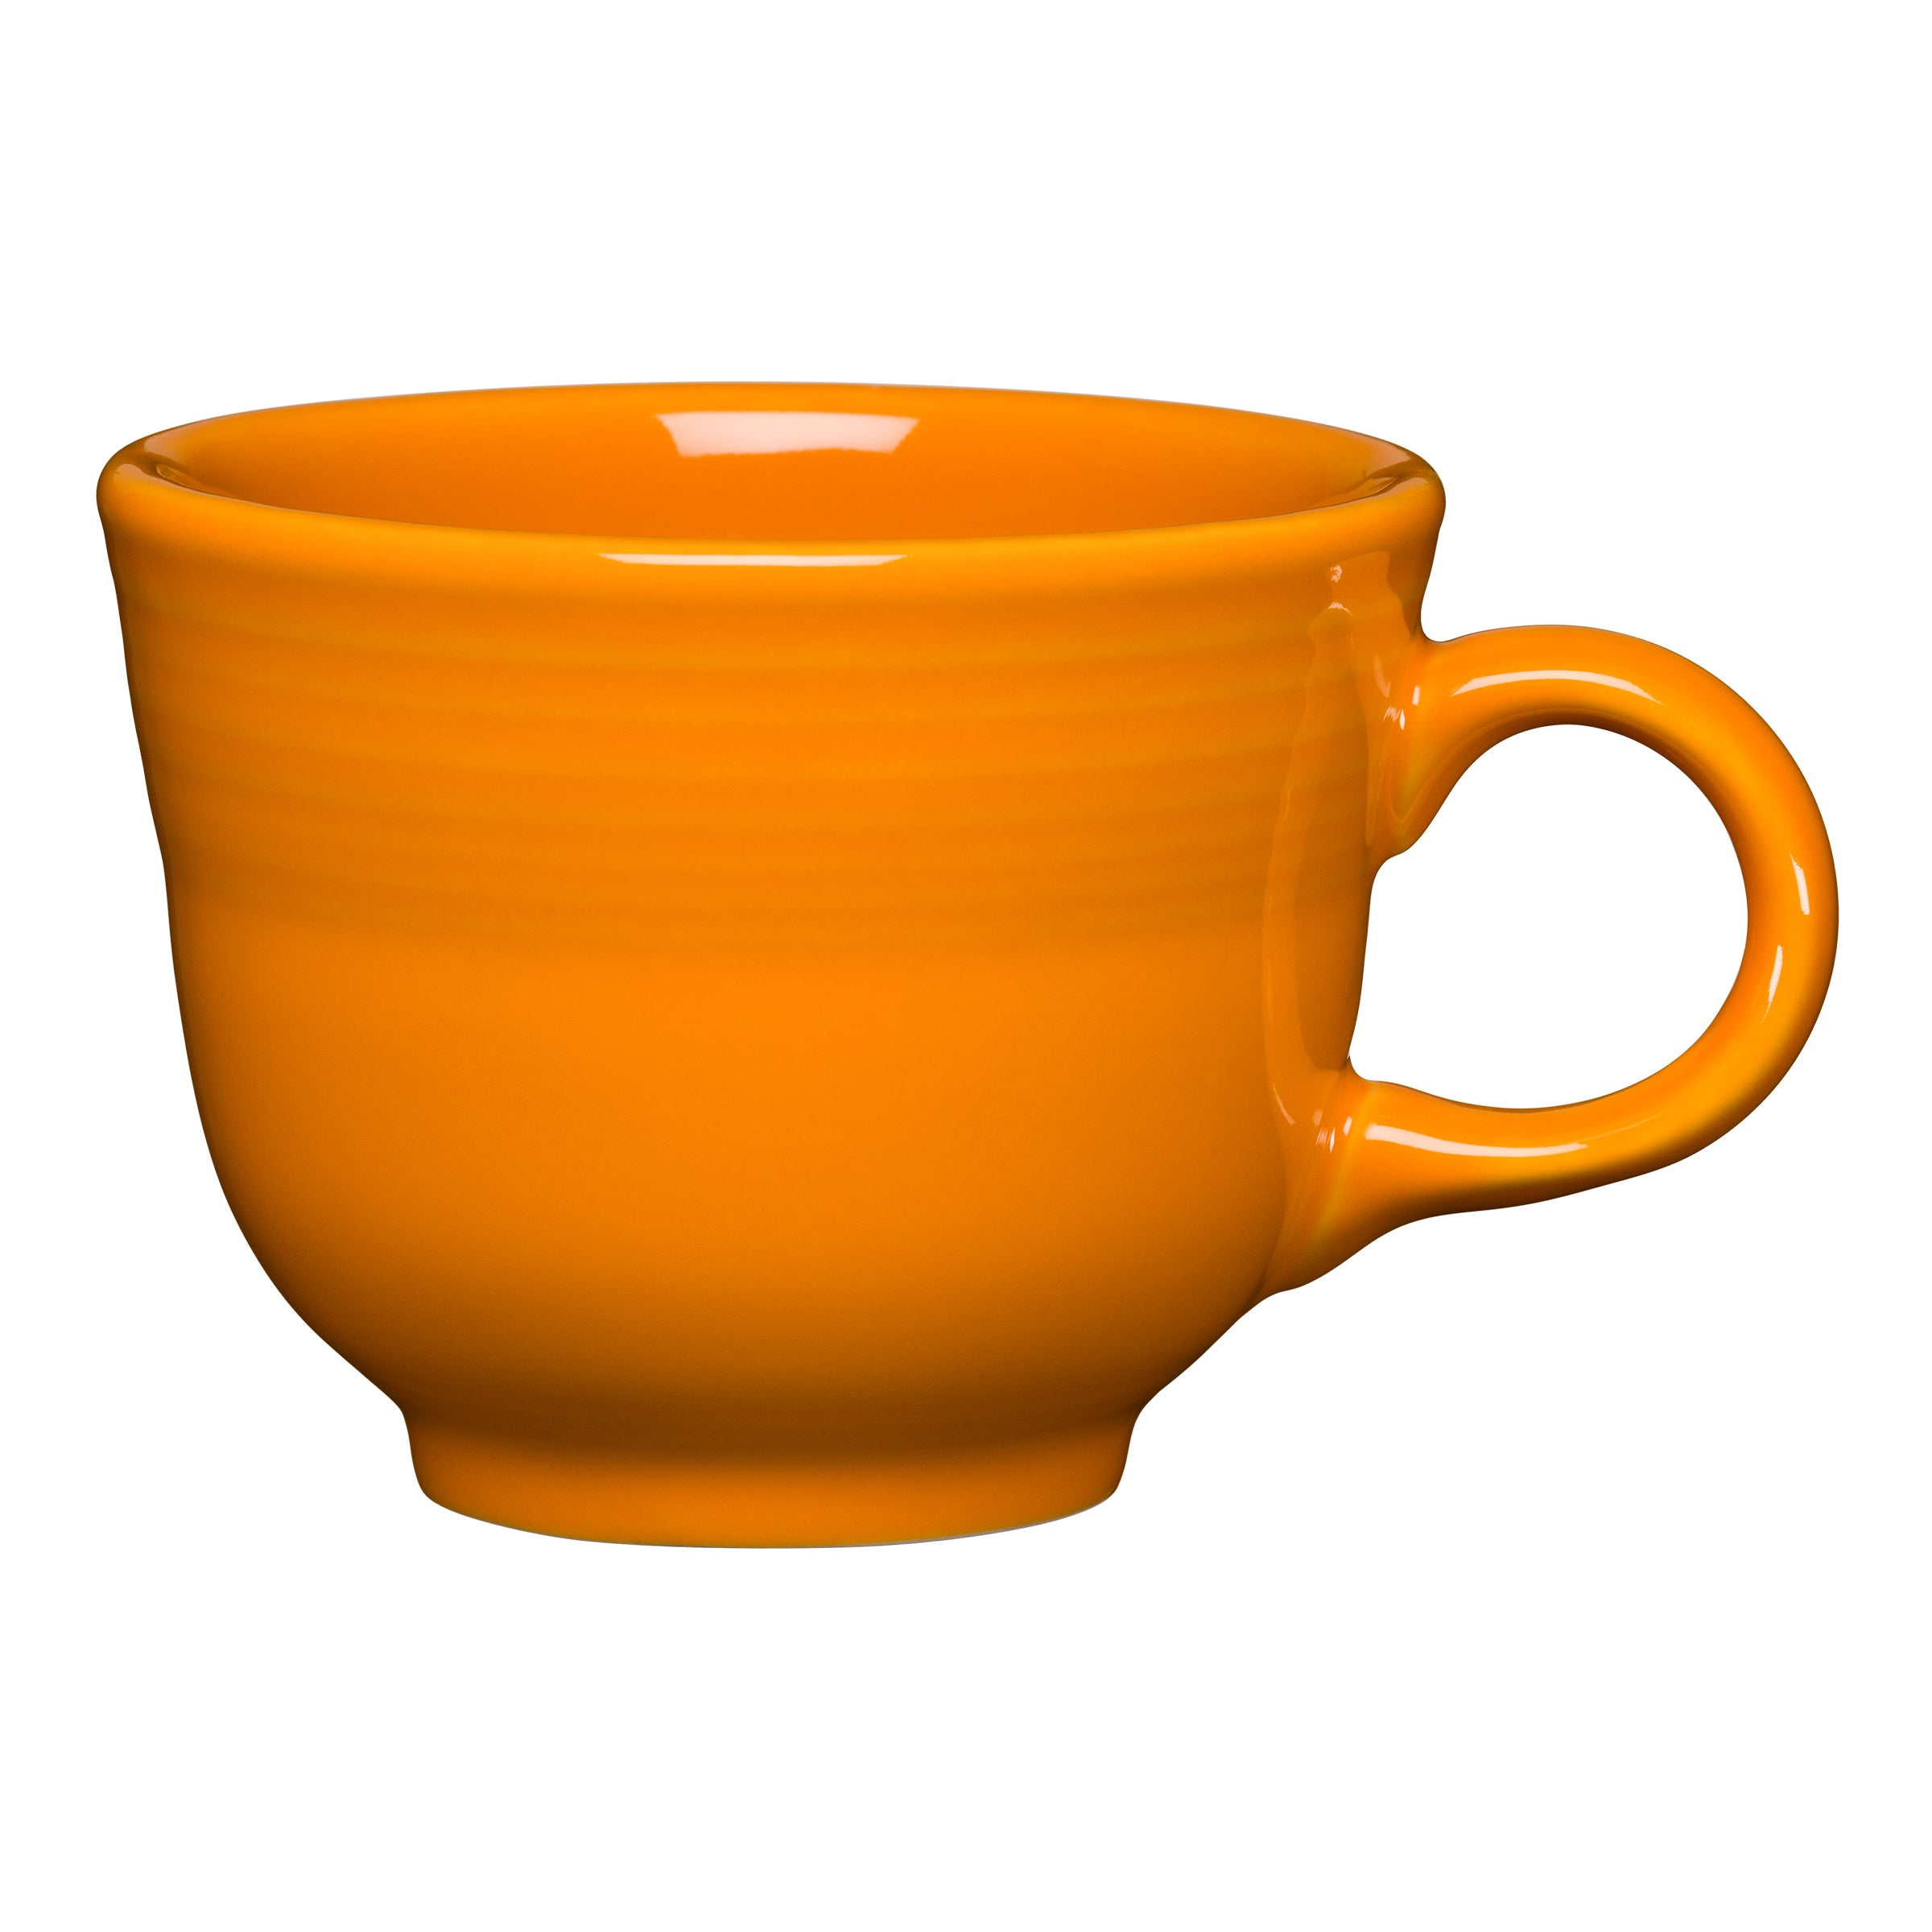cup: (96, 368, 1842, 1552)
